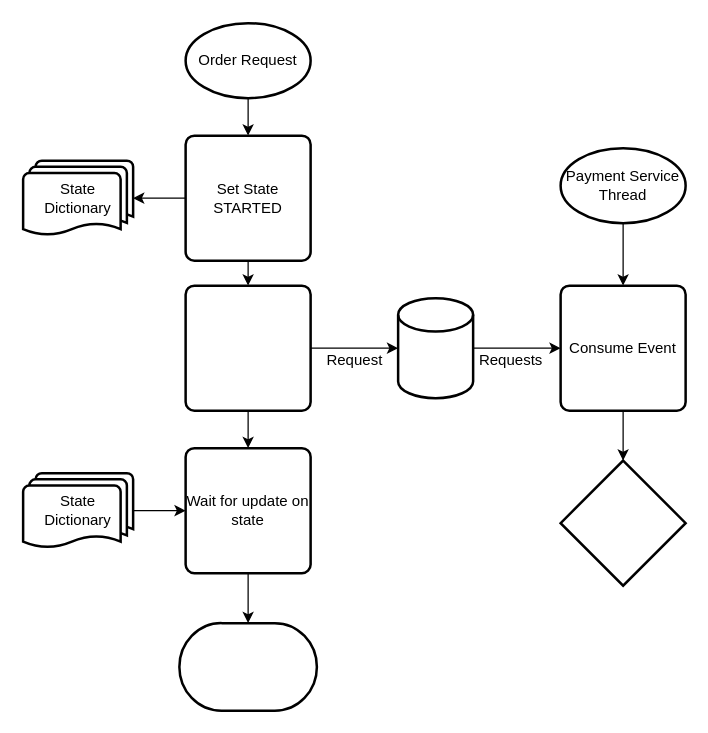
The diagram is 708 pixels wide and 733 high, and some of its shapes have lost their labels. Here are the shapes that lost their labels. From the top down, the centre of each, then its label:
At point 247,347: "Publish Event".
At point 435,347: "Kafka Topic".
At point 248,666: "Send Response".
